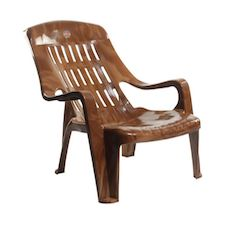chair: (15, 3, 219, 226)
